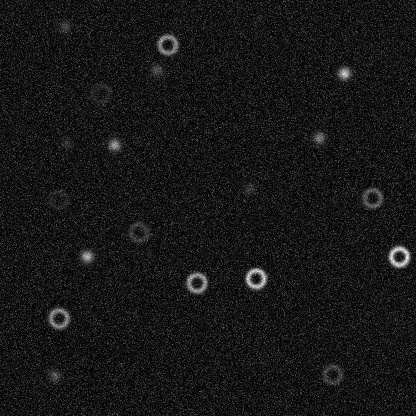Ring: (46, 306, 70, 330), (184, 270, 208, 294), (155, 32, 179, 56), (360, 185, 384, 209), (320, 362, 344, 386), (243, 266, 267, 290), (88, 81, 112, 105), (386, 244, 410, 268), (126, 220, 150, 244), (46, 187, 70, 211)
Spot: (78, 248, 94, 264), (311, 129, 327, 145), (240, 180, 256, 196), (148, 62, 164, 78), (46, 367, 62, 383), (57, 134, 73, 150), (56, 18, 72, 34), (106, 136, 122, 152), (336, 65, 352, 81)
